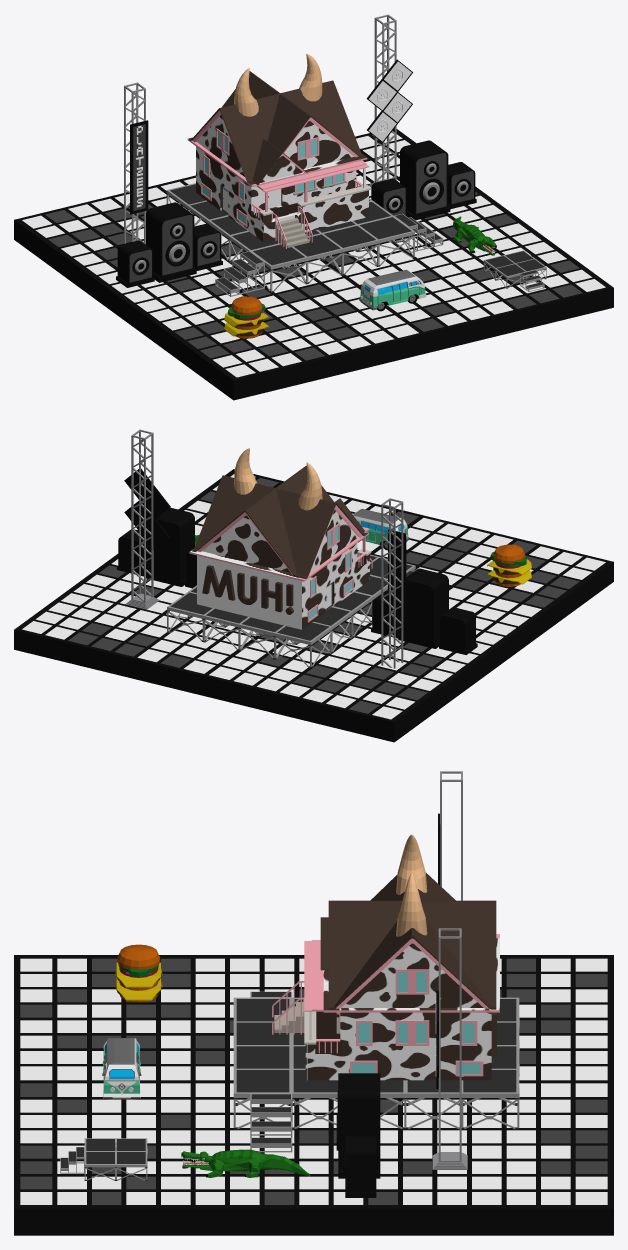
3 renders of one model, top to bottom at view 1: azimuth 30°, elevation 25°; view 2: azimuth 150°, elevation 25°; view 3: azimuth 270°, elevation 25°, orthographic. The views are drawn at different scales.
Parts seen in each view (by area): view 1: Cube.008, Cube.1242, VEHICLES_VAN, OBJRANDOM_HAMBURGER, ANIMAL_COCODRILO; view 2: Cube.008, Cube.1242, OBJRANDOM_HAMBURGER, VEHICLES_VAN; view 3: Cube.008, Cube.1242, OBJRANDOM_HAMBURGER, ANIMAL_COCODRILO, VEHICLES_VAN.
Boxes of the visible parts, left/top/right/bottom form: Cube.008: left=14, top=14, right=613, bottom=400; Cube.1242: left=187, top=54, right=371, bottom=248; VEHICLES_VAN: left=359, top=269, right=426, bottom=311; OBJRANDOM_HAMBURGER: left=224, top=296, right=269, bottom=338; ANIMAL_COCODRILO: left=453, top=216, right=496, bottom=255; Cube.008: left=14, top=429, right=613, bottom=742; Cube.1242: left=189, top=448, right=372, bottom=629; OBJRANDOM_HAMBURGER: left=487, top=544, right=531, bottom=586; VEHICLES_VAN: left=353, top=508, right=409, bottom=550; Cube.008: left=14, top=771, right=613, bottom=1235; Cube.1242: left=272, top=834, right=499, bottom=1080; OBJRANDOM_HAMBURGER: left=115, top=944, right=162, bottom=1002; ANIMAL_COCODRILO: left=181, top=1149, right=310, bottom=1177; VEHICLES_VAN: left=102, top=1038, right=141, bottom=1099.
Size of the model in its own units: 4000 by 1950 by 4000.
48 materials, 1 textured.
